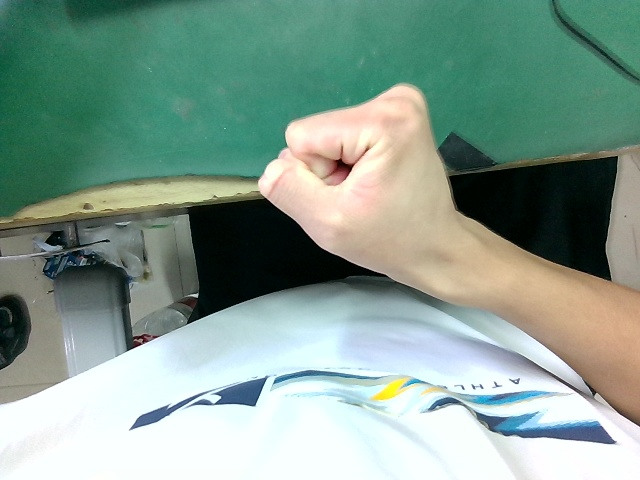stone: (239, 64, 473, 283)
